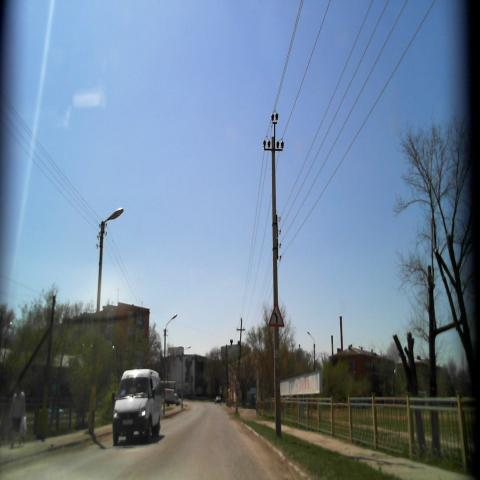1_11_1: (268, 304, 286, 327)
